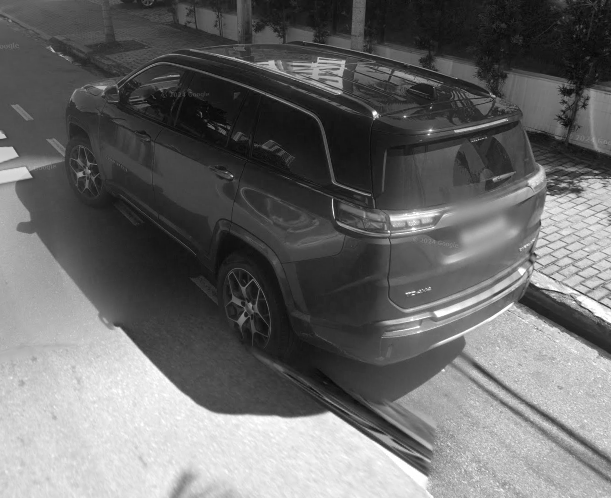car: (62, 38, 549, 375)
